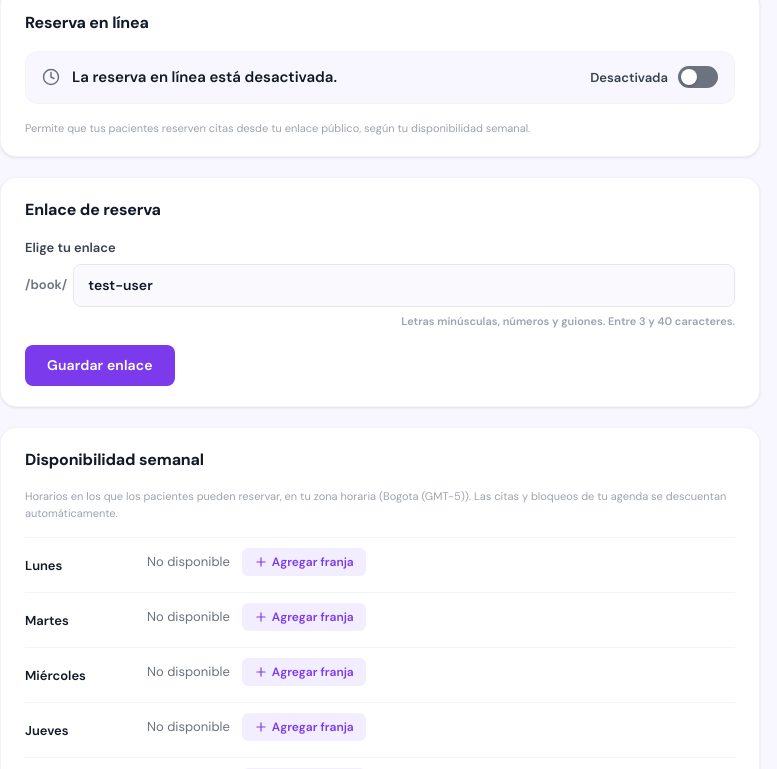
Test: OnlineBookingTab: status › shows the server error when enabling fails
Click the switch with test id "online-booking-enabled-toggle" at (654, 77), box top-left (590, 66), bottom-right (718, 88)
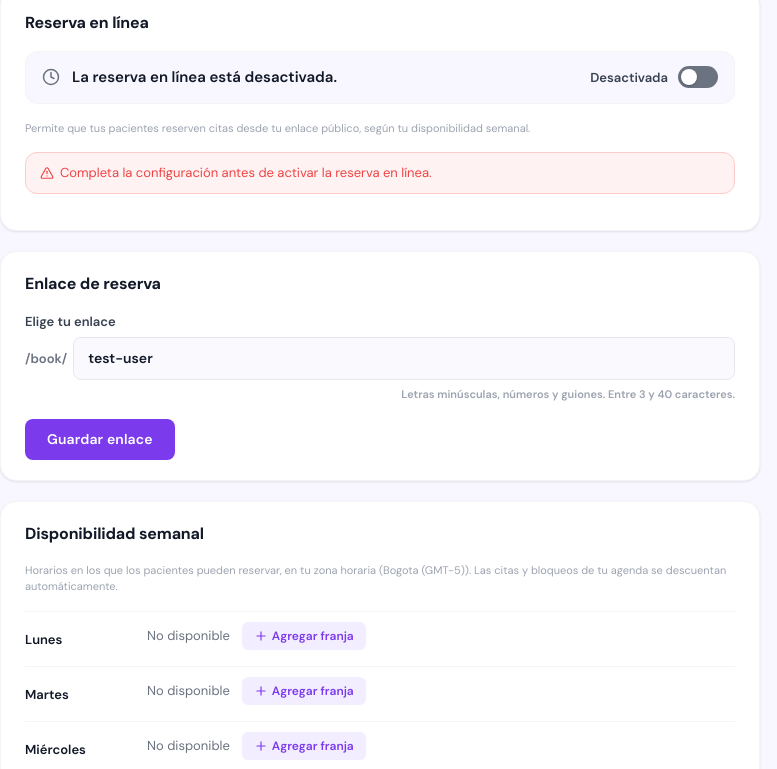
Check: the message shows "Completa la configuración", box top-left (60, 164), bottom-right (432, 181)
